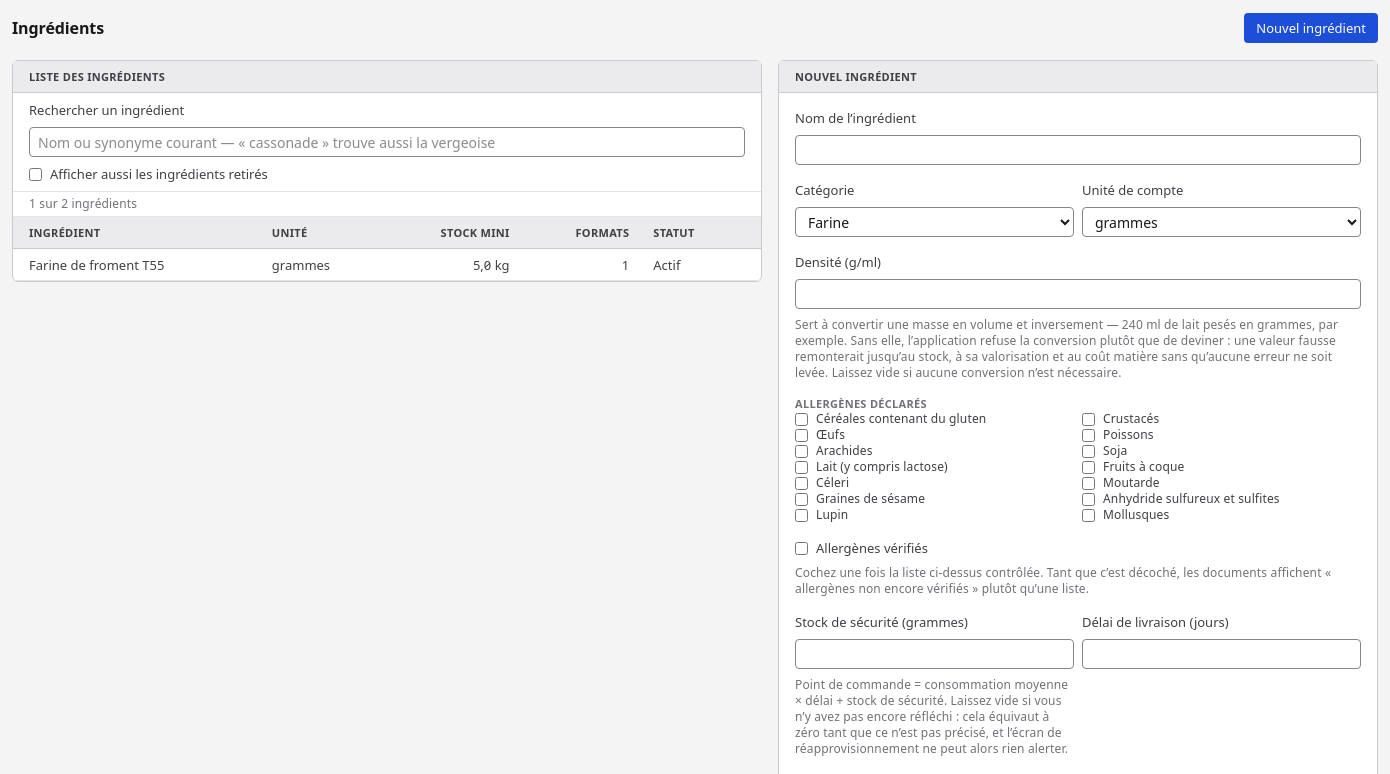
Test: Ingrédients — recherche, ingrédients retirés, états vides › un ingrédient RETIRÉ est masqué par défaut, et réapparaît en cochant la case
This screenshot has width=1390, height=774.
Expected: the text "Farine de froment T55" is shown, [13,249,260,281]
Expected: the text "Sel fin" is not shown
Click the checkbox labelled "Afficher aussi les ingrédients retirés" at [36, 174], box [29,168,42,180]
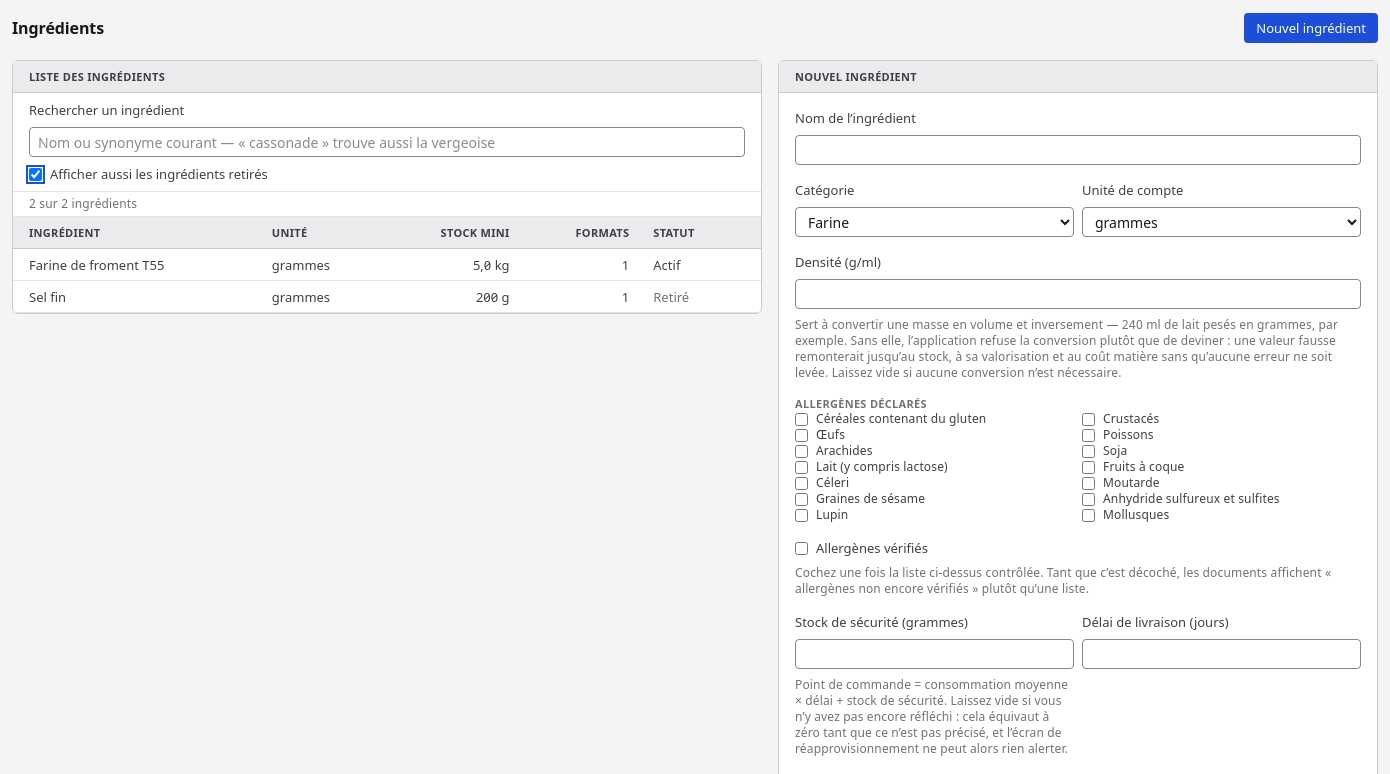
Result: the text "Sel fin" is shown at [29,288,66,306]
